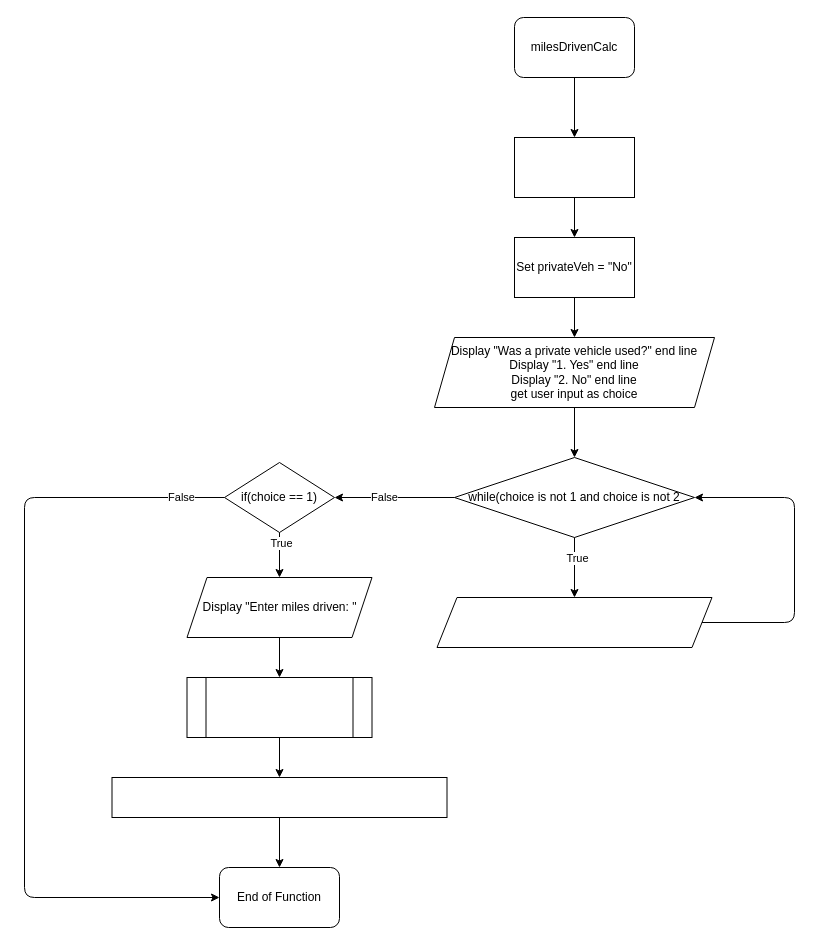
Some shapes in this 820 by 945 pixel diagram are drawn without their labels. Each missing label, with the box of its shape:
Declare int variable: choice: (514, 136, 634, 198)
Display "ERROR: Please enter valid option: " get user input as choice: (436, 596, 712, 648)
milesDriven = getValue(): (186, 676, 372, 738)
set allowanceVeh = milesDriven * ALLOWANCE_VEHICLE set privateVeh = "Yes": (111, 776, 447, 818)
